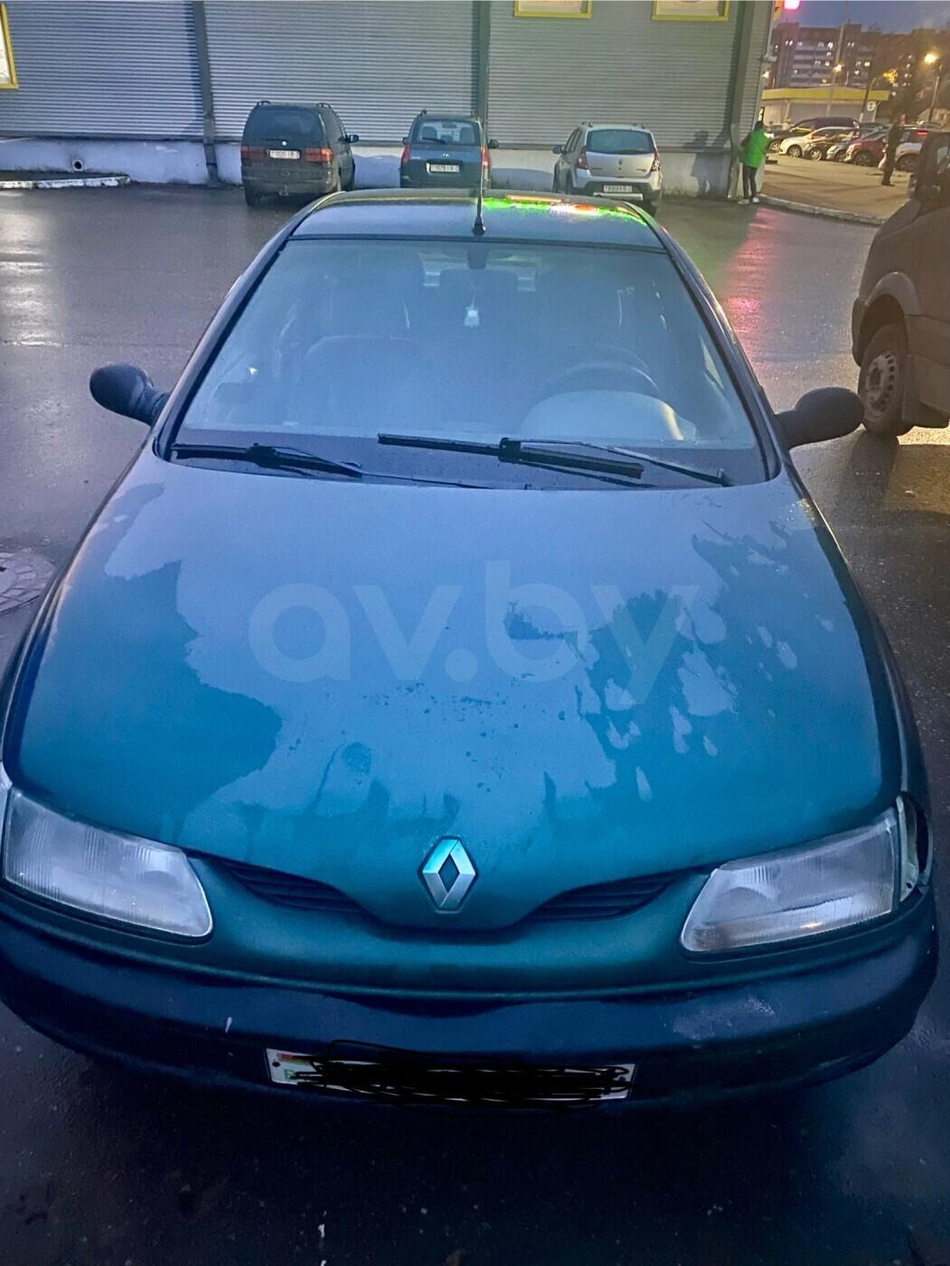Lahuna_1993-1999: (0, 177, 945, 1134)
